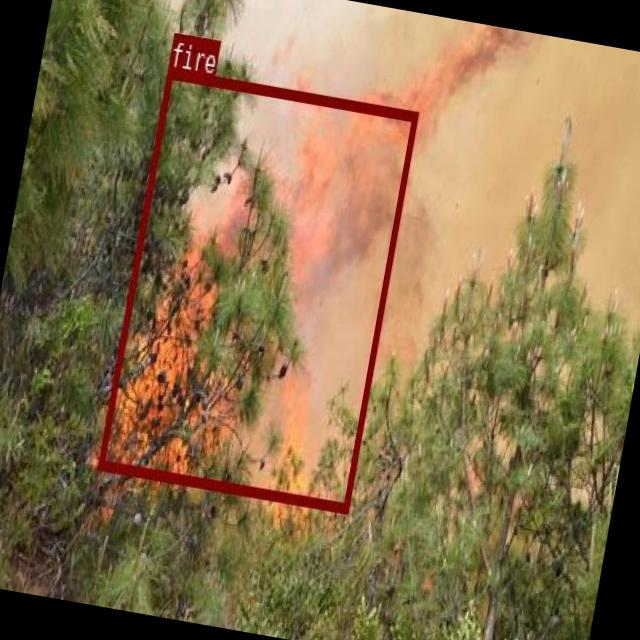fire: (97, 67, 417, 510)
